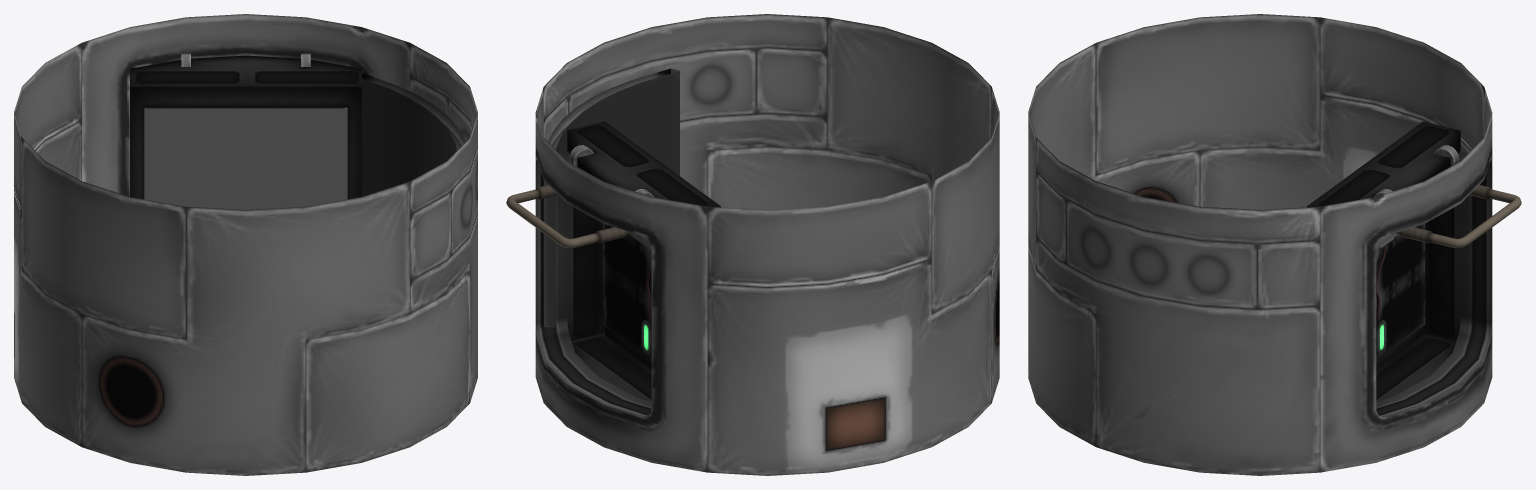
Rendered from AgenaAO.fbx.
The picture shows the model from 3 angles, left to right: view 1: azimuth 30°, elevation 25°; view 2: azimuth 150°, elevation 25°; view 3: azimuth 270°, elevation 25°; orthographic projection.
Visible parts, largest first — view 1: Agena_MaterialsBay8; view 2: Agena_MaterialsBay8; view 3: Agena_MaterialsBay8.
Part boxes in pixels (x1,y1,x2,y2): Agena_MaterialsBay8: (14,14,477,475); Agena_MaterialsBay8: (506,14,999,475); Agena_MaterialsBay8: (1028,14,1521,475).
Size of the model in its own units: 0.9375 by 0.593 by 0.9972.
1 material, 1 textured.
